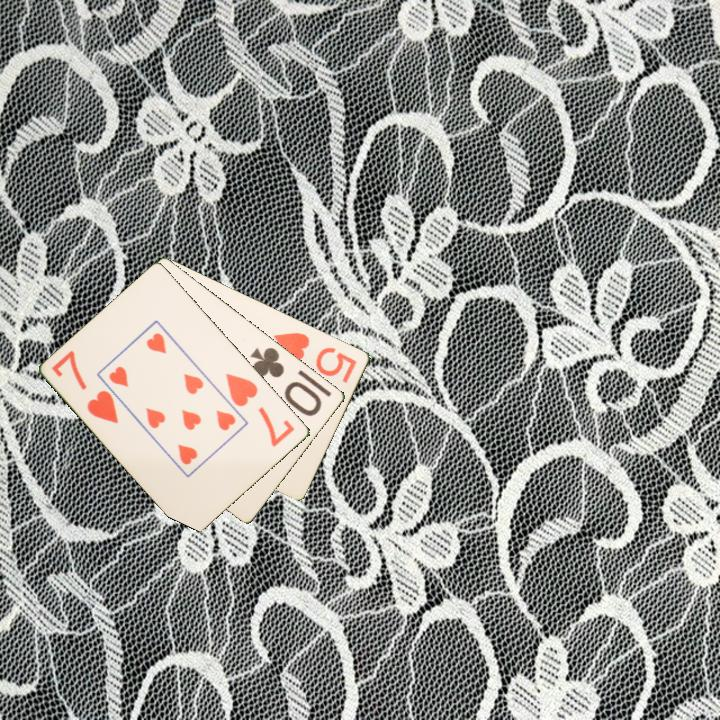10c: (247, 343, 325, 419)
5h: (270, 328, 360, 386)
7h: (222, 370, 298, 450), (48, 347, 122, 427)
